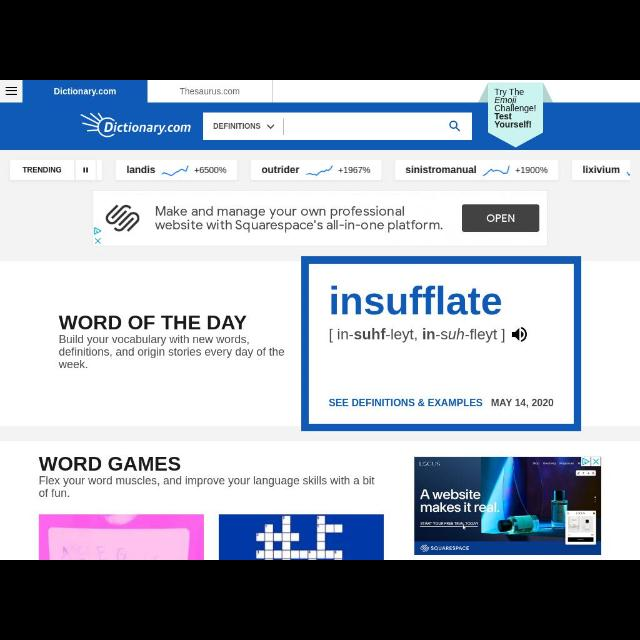button: (1, 81, 22, 103)
icon: (512, 327, 528, 343), (449, 120, 461, 132), (5, 86, 17, 96), (266, 124, 276, 130), (82, 167, 90, 173)
iframe: (92, 190, 548, 246), (414, 457, 602, 555)
image: (218, 514, 384, 560), (38, 514, 204, 560), (480, 82, 552, 148), (80, 112, 190, 138), (161, 166, 189, 177), (305, 166, 333, 177), (482, 166, 510, 176)
input: (203, 114, 472, 140)
multitab: (23, 81, 273, 103)
panel: (1, 262, 640, 426), (7, 441, 639, 559), (395, 160, 559, 180), (252, 160, 382, 180), (116, 160, 237, 180), (9, 160, 102, 180), (572, 160, 630, 180)
spinner: (212, 122, 276, 130)
text: (59, 334, 284, 368), (39, 477, 375, 498), (330, 284, 502, 316), (330, 328, 504, 344), (58, 315, 246, 329), (38, 456, 180, 472), (329, 398, 483, 408), (54, 87, 116, 97), (491, 398, 553, 408), (406, 166, 476, 174), (180, 87, 240, 95), (213, 122, 261, 130), (22, 166, 62, 174), (262, 166, 300, 174), (584, 166, 620, 174), (194, 166, 226, 174), (339, 166, 371, 174), (516, 166, 548, 174), (126, 166, 156, 174)
toolbar: (1, 103, 579, 149)
